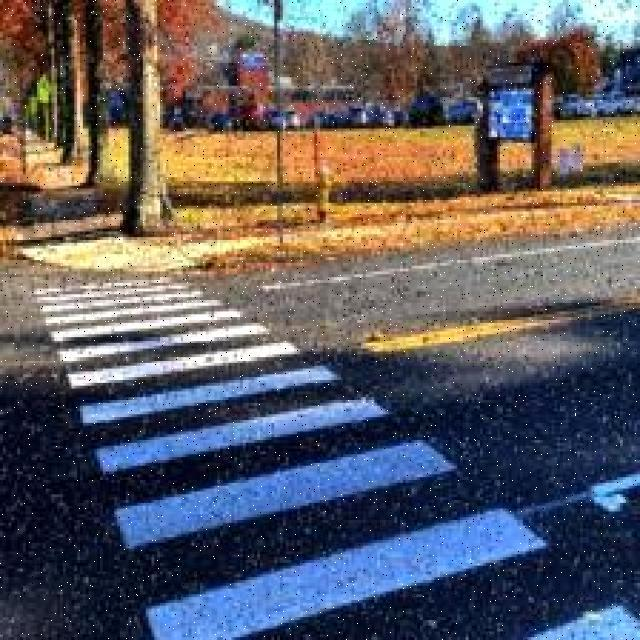crosswalk: (16, 257, 636, 637)
